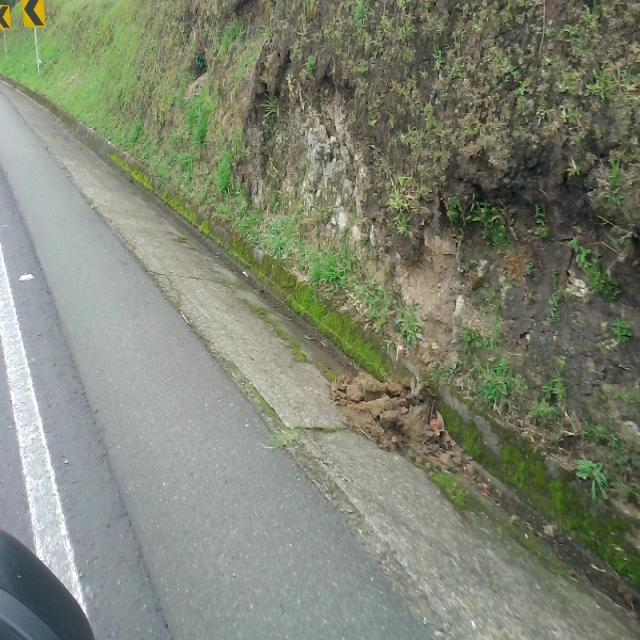DITCH: (1, 39, 638, 638), (1, 72, 638, 638)
